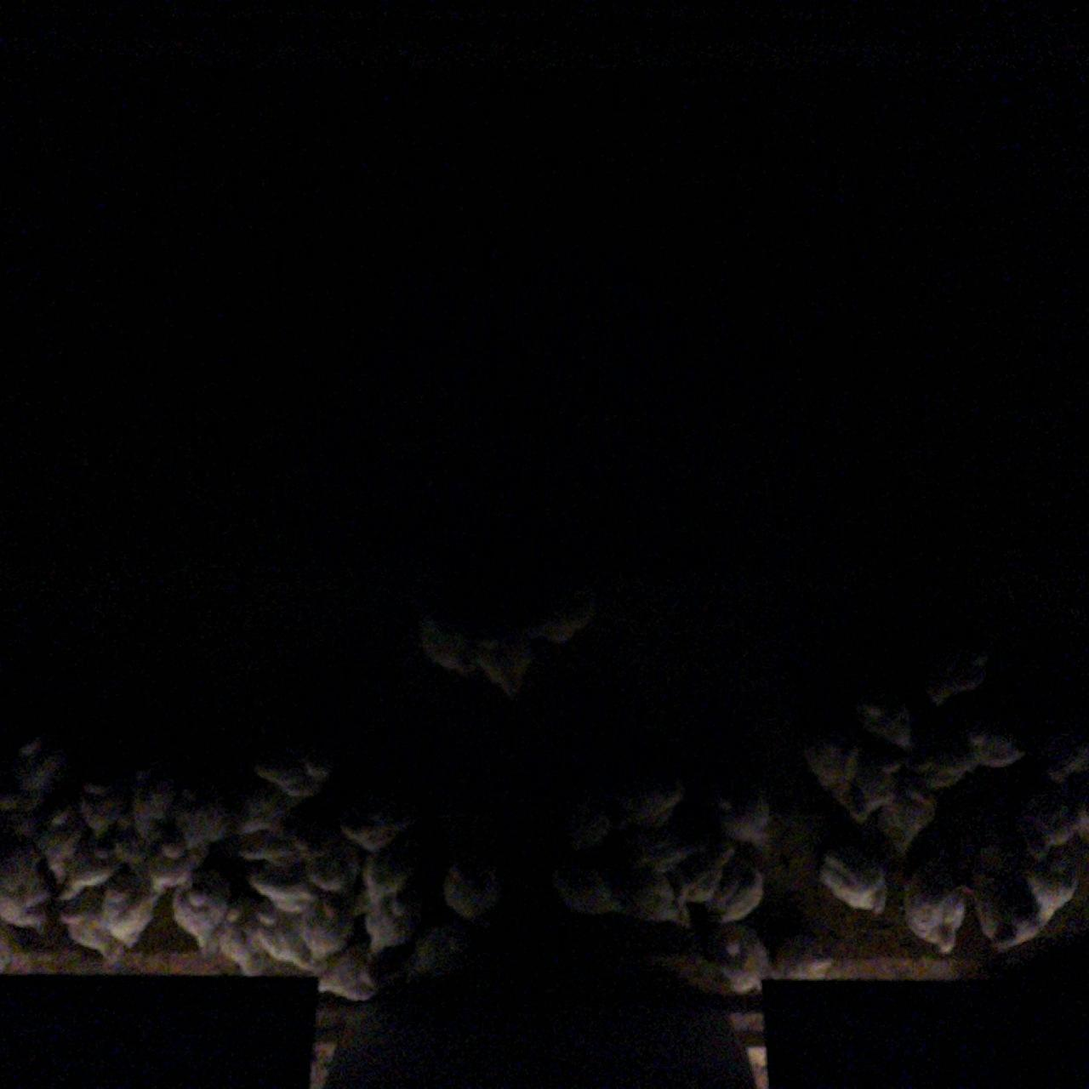chicken: (248, 740, 345, 810), (898, 871, 971, 957), (310, 937, 399, 1006), (402, 912, 479, 989), (251, 901, 327, 979), (812, 841, 891, 915), (832, 754, 909, 829), (971, 871, 1040, 954), (168, 871, 231, 961), (876, 769, 938, 860), (613, 859, 692, 929), (436, 854, 505, 934), (0, 838, 56, 935), (337, 789, 419, 855), (466, 623, 534, 702), (1017, 847, 1082, 928), (700, 856, 770, 931), (358, 835, 427, 911), (523, 580, 601, 647), (800, 723, 864, 802), (617, 827, 718, 877), (545, 860, 629, 920), (218, 896, 276, 982), (709, 785, 777, 856), (361, 887, 428, 959), (710, 921, 771, 1000), (850, 689, 919, 758), (101, 868, 157, 952), (926, 642, 995, 710), (293, 835, 362, 903), (145, 833, 213, 901), (55, 841, 124, 908), (619, 772, 692, 835), (36, 801, 88, 889), (552, 787, 617, 857), (417, 607, 480, 679), (61, 896, 124, 965), (170, 793, 241, 853), (126, 767, 181, 844), (14, 727, 72, 800), (675, 839, 733, 907), (298, 894, 356, 961), (246, 861, 319, 914), (229, 782, 298, 837), (774, 932, 843, 986), (907, 740, 978, 792), (75, 773, 128, 841), (229, 824, 307, 869), (959, 721, 1025, 773), (1036, 724, 1089, 787), (1021, 790, 1073, 853), (105, 821, 155, 872), (1070, 791, 1089, 855)
